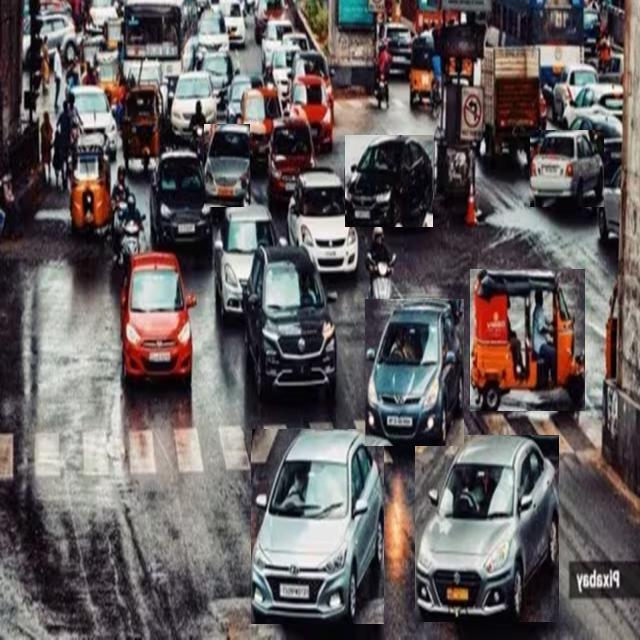autorickshaw: (470, 269, 585, 411), (70, 133, 111, 236)
car: (415, 436, 559, 622), (251, 429, 384, 624), (365, 300, 464, 446), (242, 247, 336, 400), (121, 251, 196, 380), (345, 135, 432, 227), (288, 167, 358, 273), (214, 204, 276, 318), (150, 151, 218, 250), (530, 131, 604, 207), (268, 116, 315, 201), (204, 124, 250, 207), (291, 70, 334, 150)
